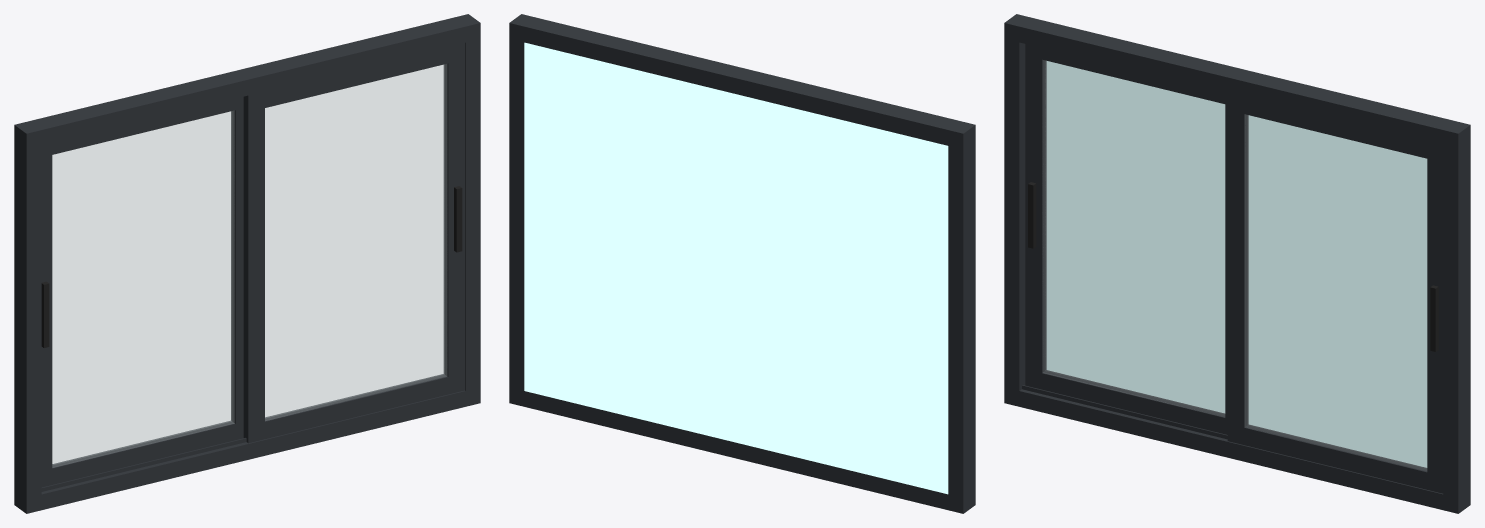
File: corredera_1500x1200.glb
The picture shows the model from 3 angles, left to right: view 1: azimuth 30°, elevation 25°; view 2: azimuth 150°, elevation 25°; view 3: azimuth 330°, elevation 25°; orthographic projection.
Visible parts, largest first — view 1: Ventana corredera aluminio 150 x 120 cm; view 2: Ventana corredera aluminio 150 x 120 cm; view 3: Ventana corredera aluminio 150 x 120 cm.
Part boxes in pixels (x1,y1,x2,y2): Ventana corredera aluminio 150 x 120 cm: (14, 14, 480, 513); Ventana corredera aluminio 150 x 120 cm: (509, 14, 975, 513); Ventana corredera aluminio 150 x 120 cm: (1004, 14, 1470, 513).
Bounding box in the file's own units: 1.5 × 1.2 × 0.082.
